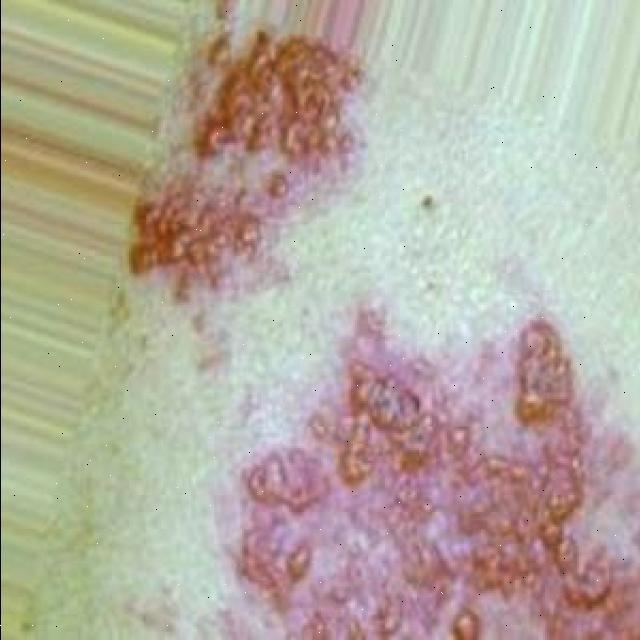Shingles: (228, 316, 640, 640), (129, 28, 365, 288)
